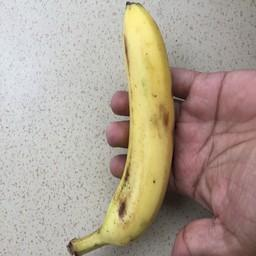Banana Ripe: (70, 0, 183, 256)
